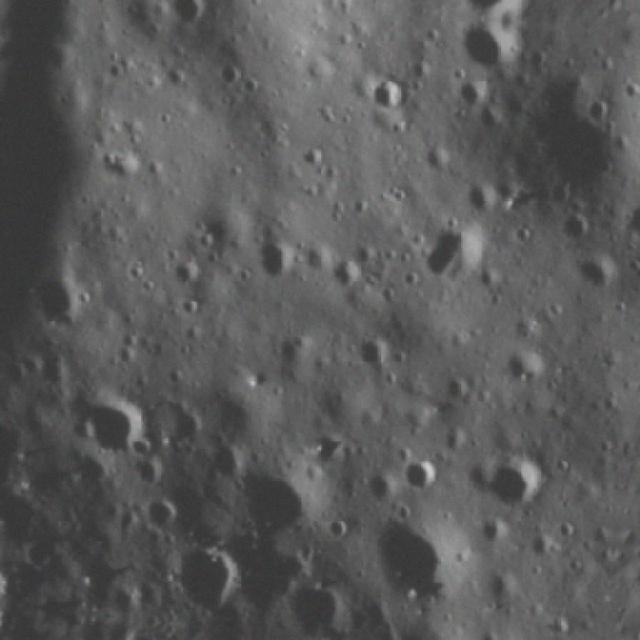crater: (514, 62, 632, 196), (360, 504, 474, 618), (228, 452, 329, 546), (148, 533, 242, 622), (226, 533, 316, 616), (64, 384, 153, 458), (480, 446, 552, 525), (445, 14, 529, 78), (27, 268, 96, 338), (422, 220, 488, 291), (278, 577, 347, 640), (252, 231, 308, 295), (498, 343, 552, 394), (573, 250, 624, 302), (166, 245, 211, 301), (452, 176, 503, 224), (446, 69, 494, 117), (350, 330, 398, 378), (476, 562, 524, 610), (136, 494, 184, 537), (398, 453, 440, 501), (521, 522, 562, 566), (367, 73, 407, 118), (168, 0, 216, 32), (624, 198, 640, 247), (298, 632, 352, 640), (632, 132, 640, 182)
